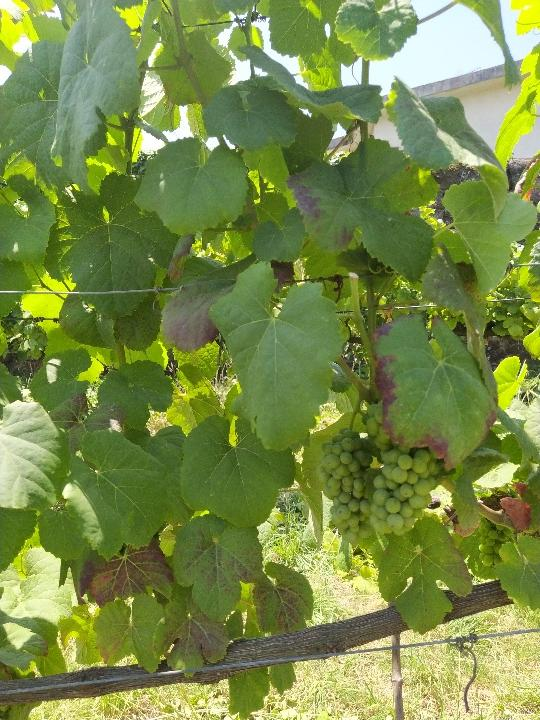grape: (362, 401, 440, 533), (316, 428, 369, 548)
